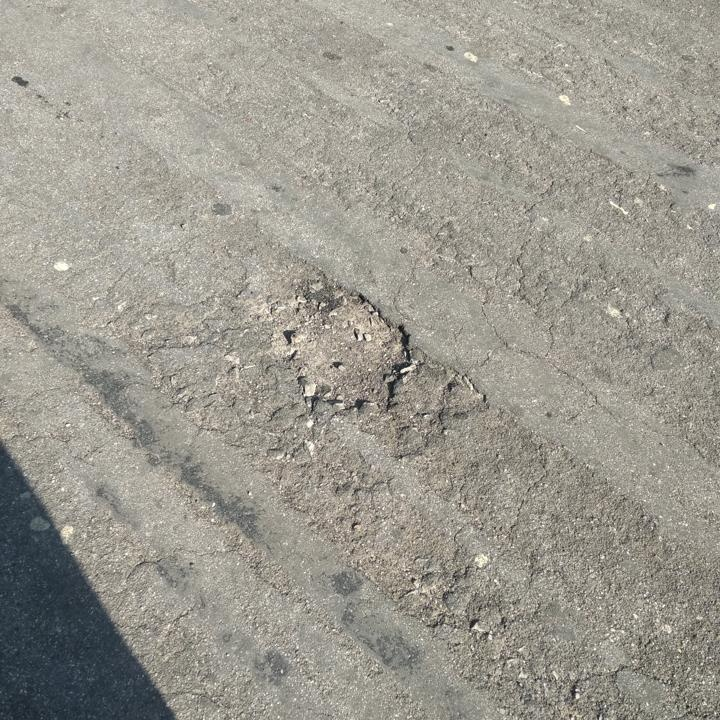pothole: (258, 277, 421, 420)
